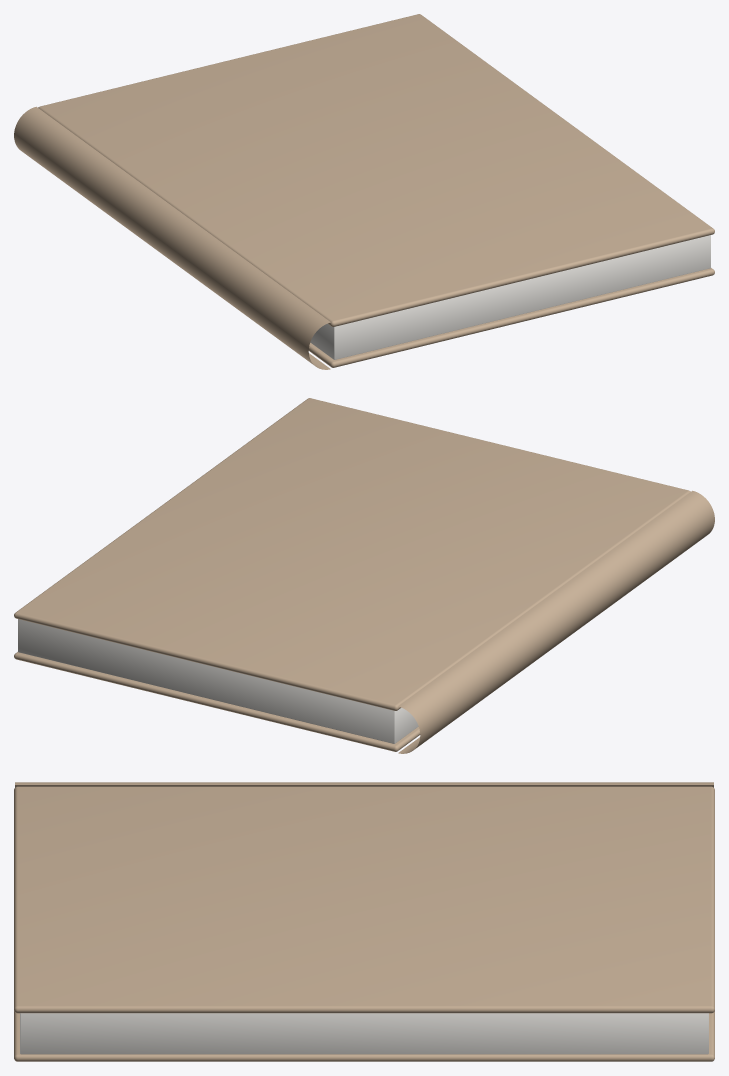
The model's file is monogram--portrait.glb.
The picture shows the model from 3 angles, top to bottom: view 1: azimuth 30°, elevation 25°; view 2: azimuth 150°, elevation 25°; view 3: azimuth 270°, elevation 25°; orthographic projection. The views are drawn at different scales.
Parts seen in each view (by area): view 1: CoverFront, Spine, Pages, CoverBack; view 2: CoverFront, Spine, Pages, CoverBack; view 3: CoverFront, Pages, CoverBack, Spine.
Boxes of the visible parts, left/top/right/bottom form: CoverFront: left=38, top=14, right=714, bottom=326; Spine: left=14, top=106, right=330, bottom=369; Pages: left=310, top=235, right=710, bottom=359; CoverBack: left=308, top=268, right=714, bottom=367; CoverFront: left=14, top=398, right=690, bottom=710; Spine: left=398, top=490, right=714, bottom=753; Pages: left=18, top=619, right=418, bottom=743; CoverBack: left=14, top=652, right=420, bottom=751; CoverFront: left=14, top=786, right=714, bottom=1013; Pages: left=20, top=1013, right=708, bottom=1054; CoverBack: left=14, top=1011, right=714, bottom=1061; Spine: left=15, top=782, right=713, bottom=787.
Bounding box in the file's own units: 0.3179 × 0.0352 × 0.4.
